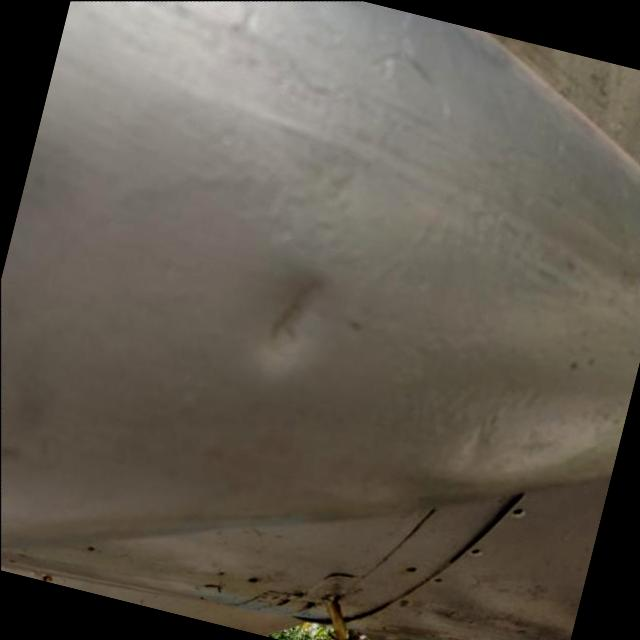dent: (233, 251, 360, 396)
